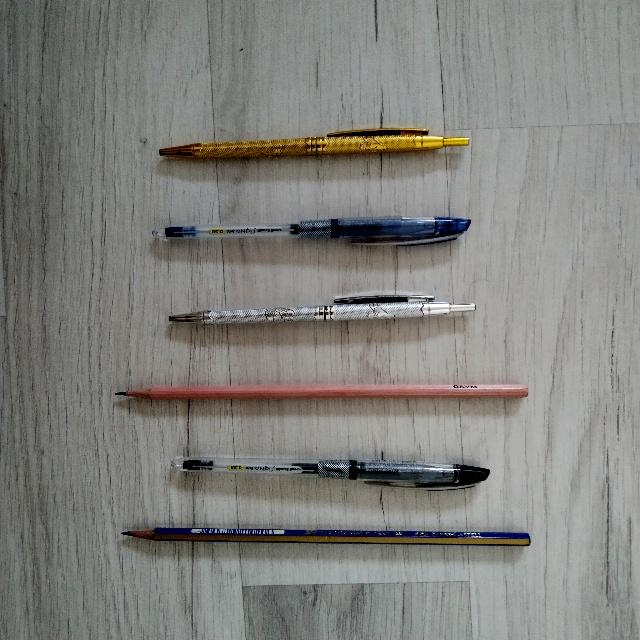pen: (171, 456, 489, 489), (152, 217, 470, 244)
pencil: (122, 527, 529, 545), (116, 384, 527, 399)
signature pen: (159, 128, 468, 158), (169, 294, 474, 323)
